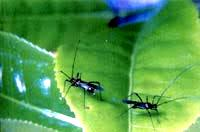Helopeltis-insect: (63, 71, 108, 97), (124, 97, 163, 111)
